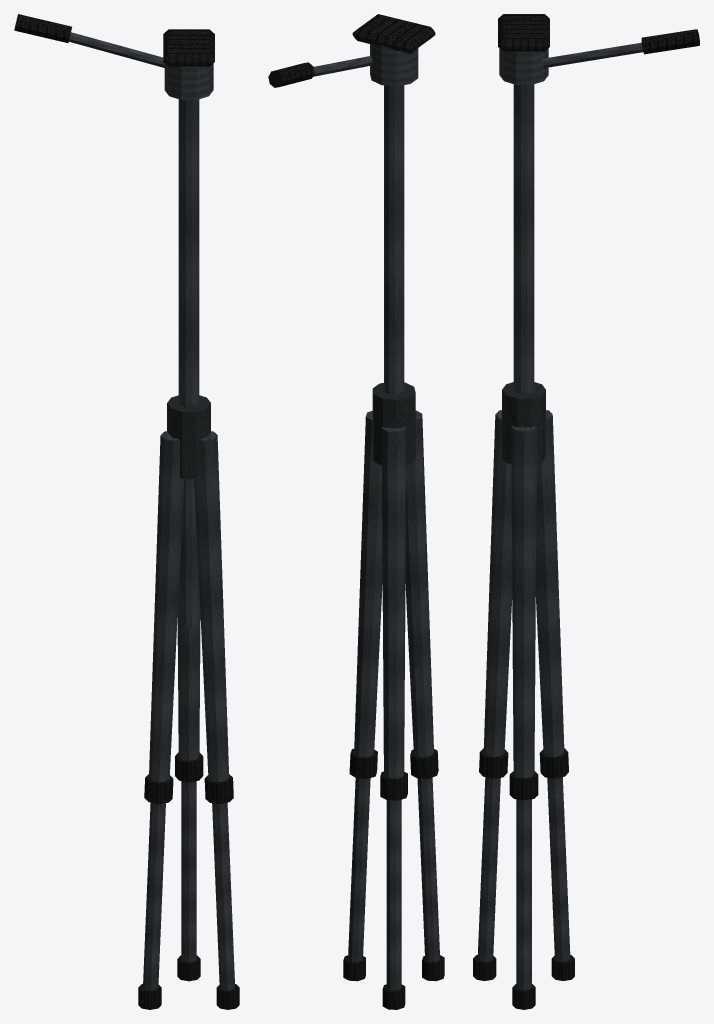
Rendered from blender_tripod_2_folded.glb.
The picture shows the model from 3 angles, left to right: view 1: azimuth 90°, elevation 25°; view 2: azimuth 150°, elevation 25°; view 3: azimuth 270°, elevation 25°; orthographic projection.
Visible parts, largest first — view 1: blender_tripod_2_folded; view 2: blender_tripod_2_folded; view 3: blender_tripod_2_folded.
Boxes of the visible parts, <box> form: blender_tripod_2_folded: <box>14,14,239,1009</box>; blender_tripod_2_folded: <box>268,14,444,1009</box>; blender_tripod_2_folded: <box>473,14,699,1009</box>.
Size of the model in its own units: 0.0715 by 0.8261 by 0.1748.
Materials: 3 (3 with a texture image).
